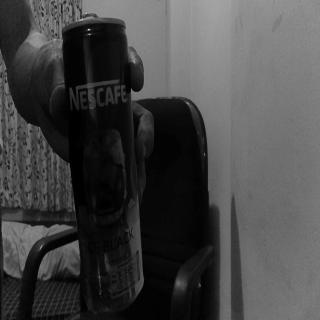alumunium_can: (62, 15, 145, 315)
